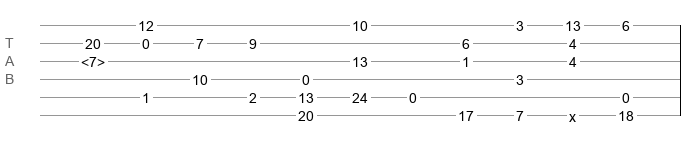0: (142, 36, 150, 46), (302, 72, 310, 82), (409, 90, 417, 100), (622, 90, 630, 100)
1: (142, 90, 150, 100), (462, 54, 470, 64)
10: (192, 72, 208, 82), (352, 18, 368, 28)
12: (138, 18, 154, 28)
13: (298, 90, 314, 100), (352, 54, 368, 64), (565, 18, 581, 28)
17: (458, 108, 474, 118)
18: (618, 108, 634, 118)
2: (249, 90, 257, 100)
20: (85, 36, 101, 46), (298, 108, 314, 118)
24: (352, 90, 368, 100)
3: (516, 18, 524, 28), (516, 72, 524, 82)
4: (569, 54, 577, 64), (569, 36, 577, 46)
6: (462, 36, 470, 46), (622, 18, 630, 28)
7: (196, 36, 204, 46), (516, 108, 524, 118)
9: (249, 36, 257, 46)
harmonic: (81, 54, 105, 64)
x: (569, 109, 576, 117)
